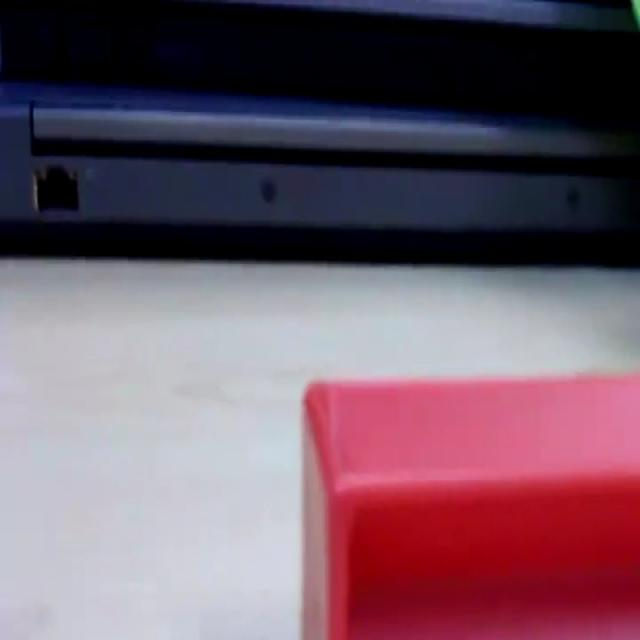red_block: (300, 371, 638, 637)
